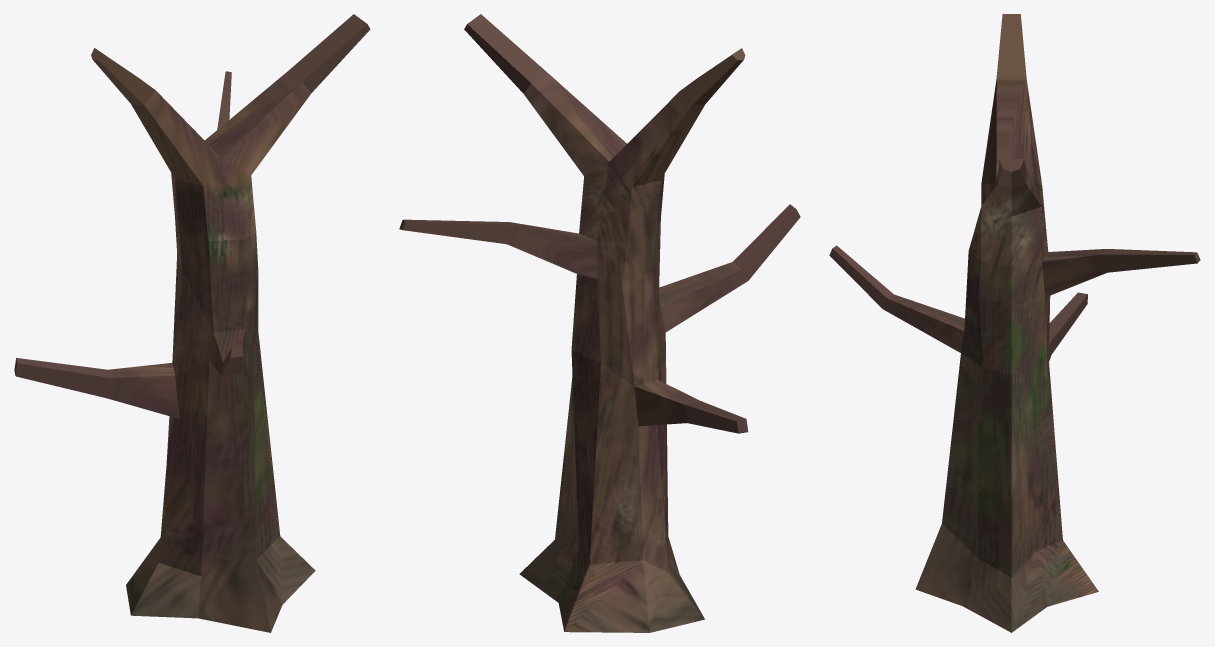
File: tree01.fbx
3 renders of one model, left to right at view 1: azimuth 30°, elevation 25°; view 2: azimuth 150°, elevation 25°; view 3: azimuth 270°, elevation 25°, orthographic. The views are drawn at different scales.
Parts seen in each view (by area): view 1: 円柱; view 2: 円柱; view 3: 円柱.
Boxes of the visible parts, x1,y1,x2,y2 form: 円柱: [14, 14, 370, 632]; 円柱: [399, 14, 800, 632]; 円柱: [829, 14, 1200, 632].
Bounding box in the file's own units: 0.9778 × 1.69 × 1.09.
Materials: 1 (1 with a texture image).
